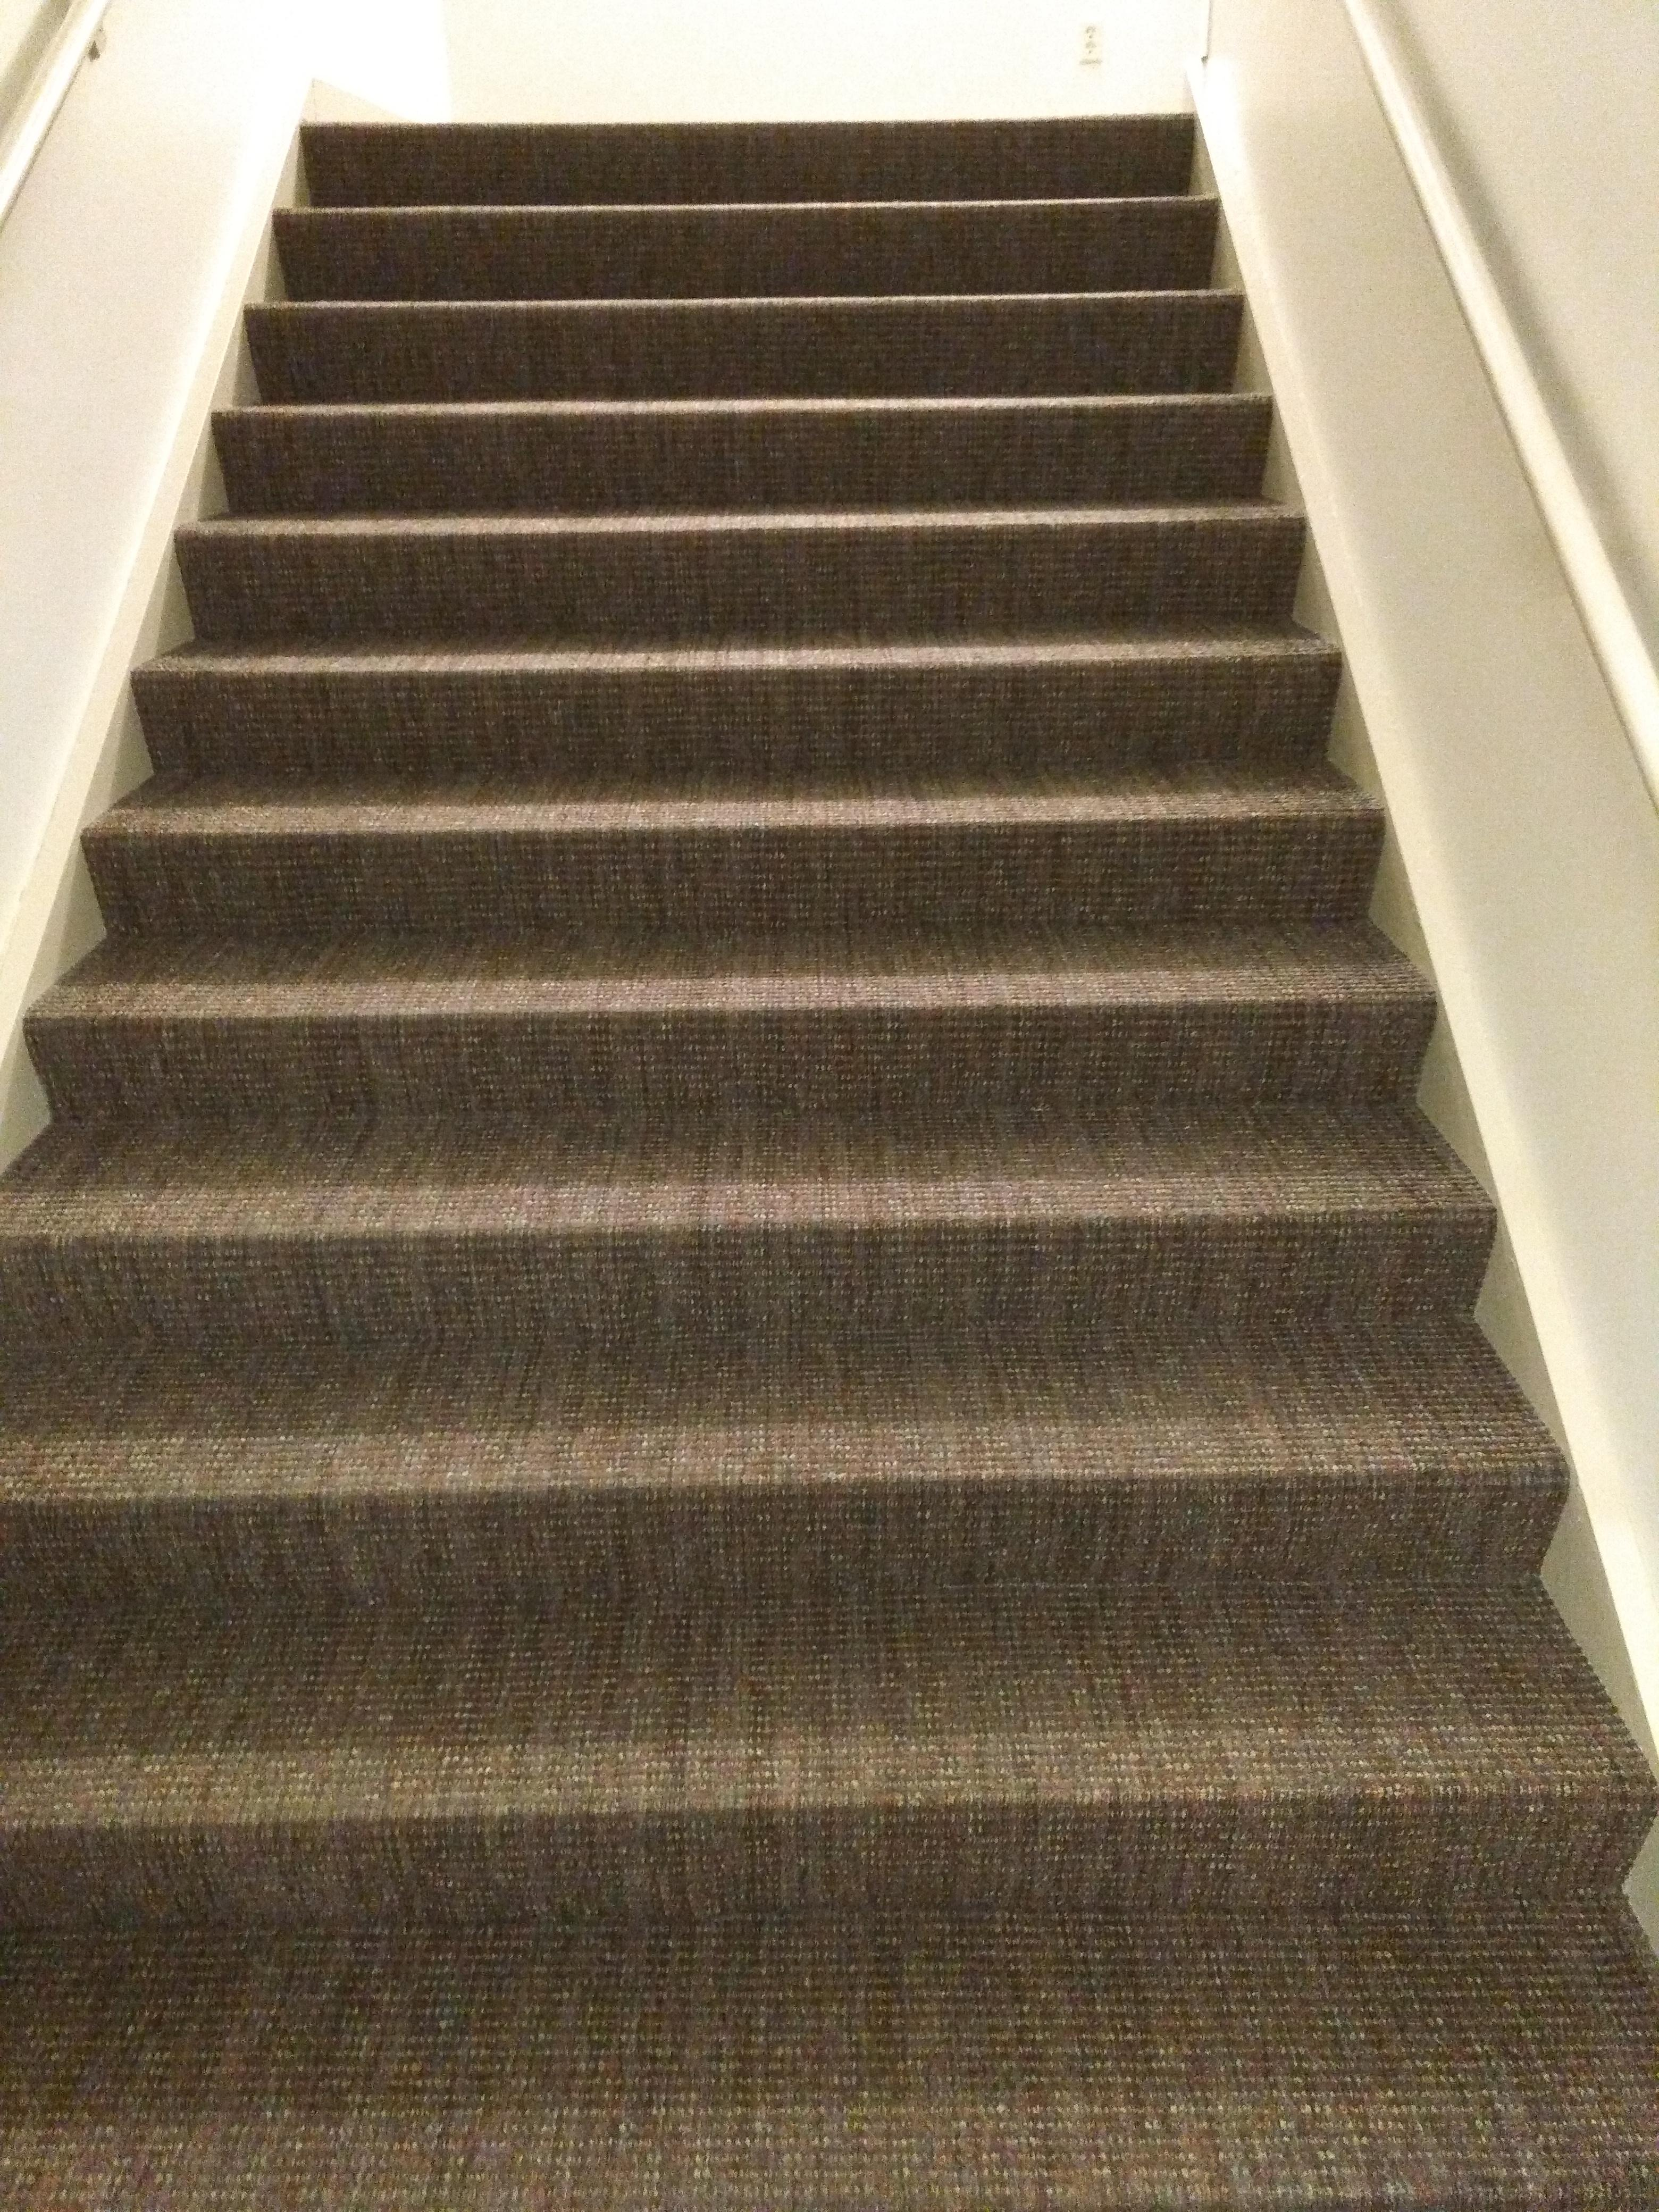stairs_up: (10, 117, 1643, 2019)
